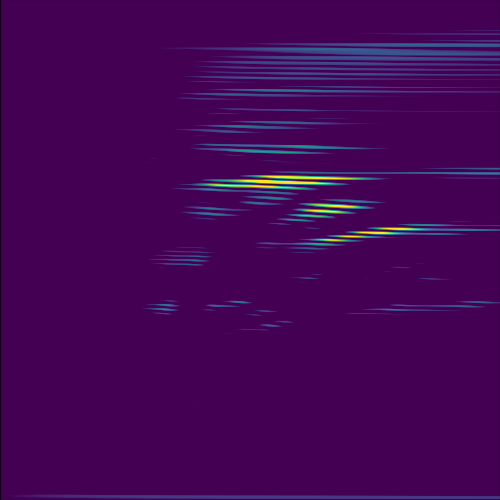semblance: (179, 172, 381, 195), (300, 220, 440, 247), (276, 197, 386, 220)
